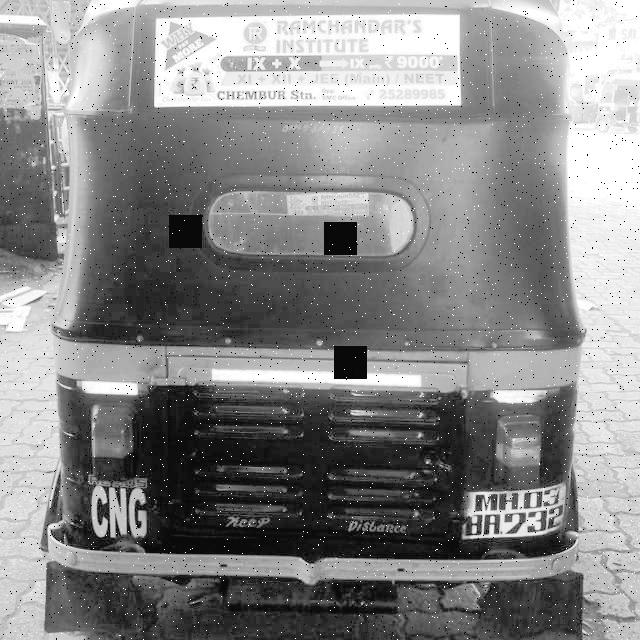Auto-Rickshaw: (47, 1, 593, 640)
